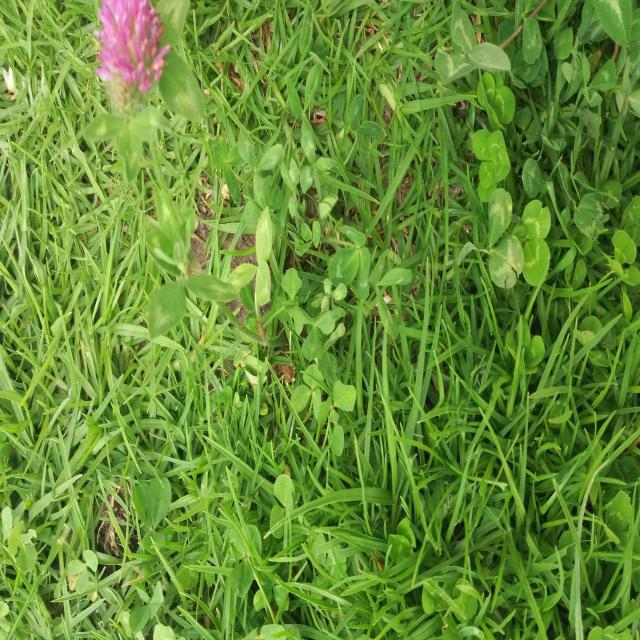Four Leaf Clover: (472, 129, 511, 202)
